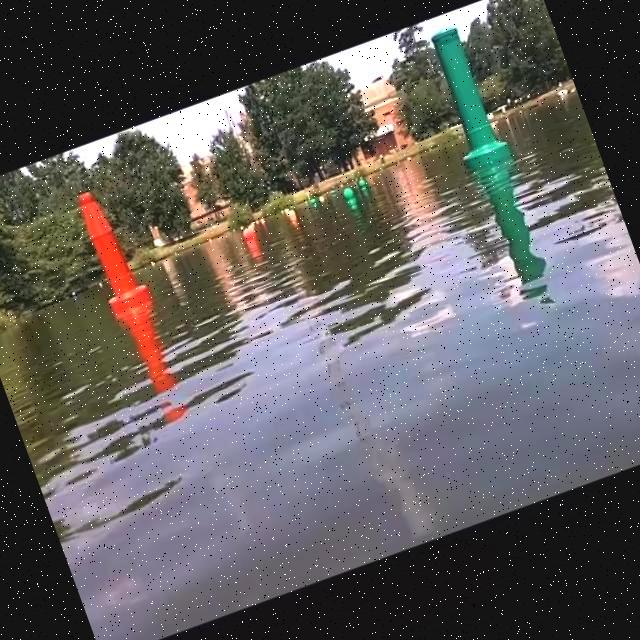buoy: (239, 224, 258, 246), (340, 186, 357, 203)
